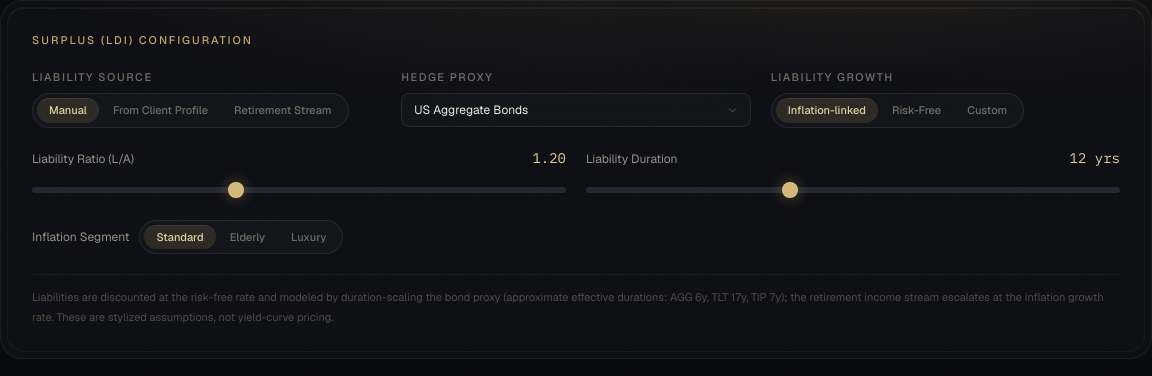
Test: SurplusConfigPanel › hides the preset selector on the age-driven profile channel
Expected: the text "Inflation Segment" is shown, x1=32 y1=229 x2=129 y2=245
Click the button "From Client Profile" at [160, 110], box x1=101 y1=98 x2=220 y2=122
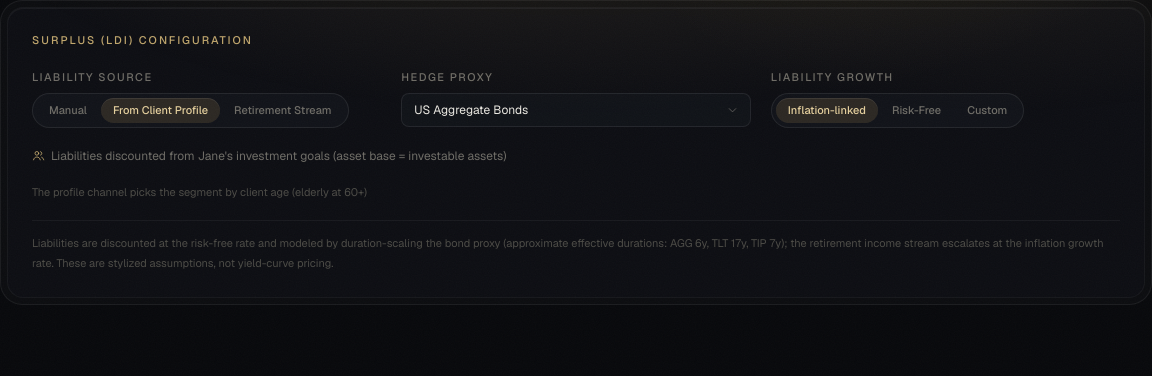
Expected: the text "Inflation Segment" is gone
Expected: the text "picks the segment by client age" is shown, x1=32 y1=184 x2=367 y2=198
